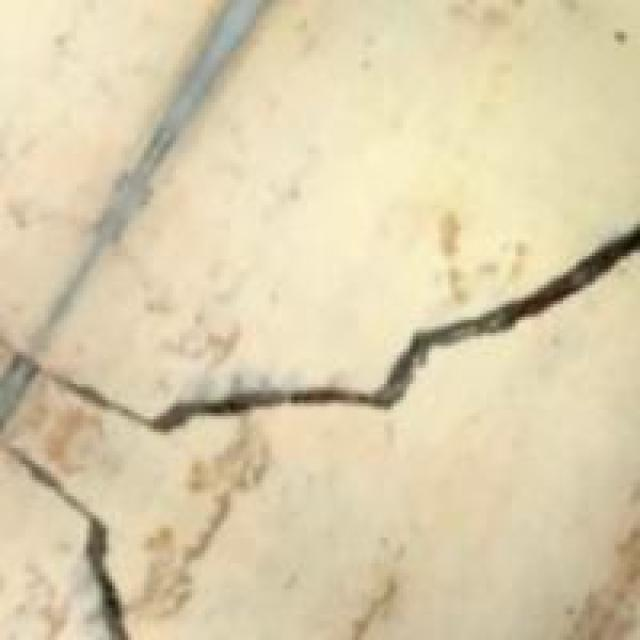crack: (29, 196, 637, 518)
